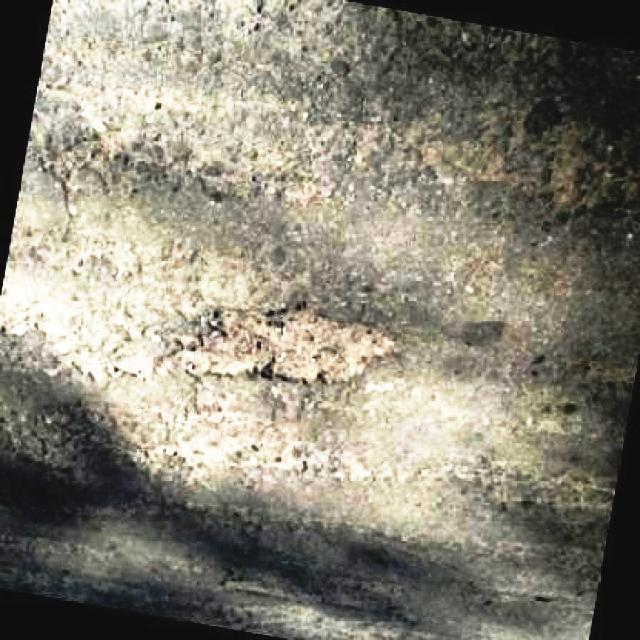pothole: (169, 302, 406, 384), (529, 105, 623, 217)
